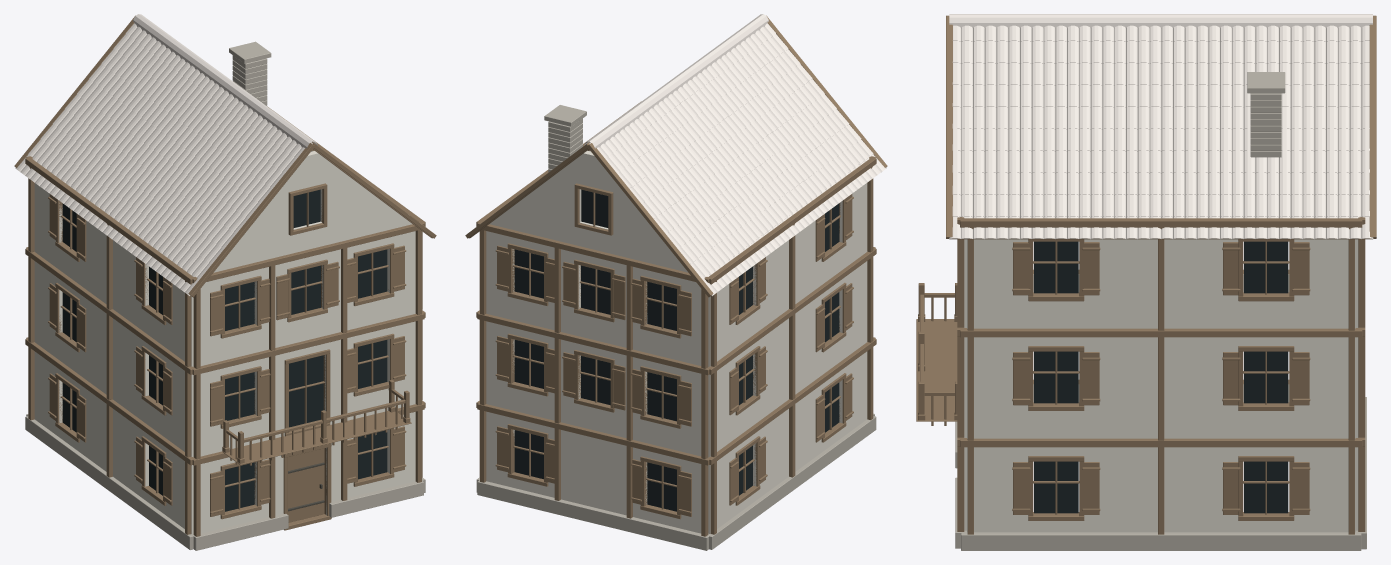
The model's file is Townhouse_3.glb.
3 views of the same model, side by side, from view 1: azimuth 30°, elevation 25°; view 2: azimuth 150°, elevation 25°; view 3: azimuth 270°, elevation 25° (orthographic). The views are drawn at different scales.
Parts seen in each view (by area): view 1: Townhouse_3; view 2: Townhouse_3; view 3: Townhouse_3.
Part boxes in pixels (x1,y1,x2,y2): Townhouse_3: [14, 14, 436, 550]; Townhouse_3: [465, 14, 887, 550]; Townhouse_3: [916, 14, 1376, 550].
Size of the model in its own units: 8.95 by 13.36 by 11.84.
